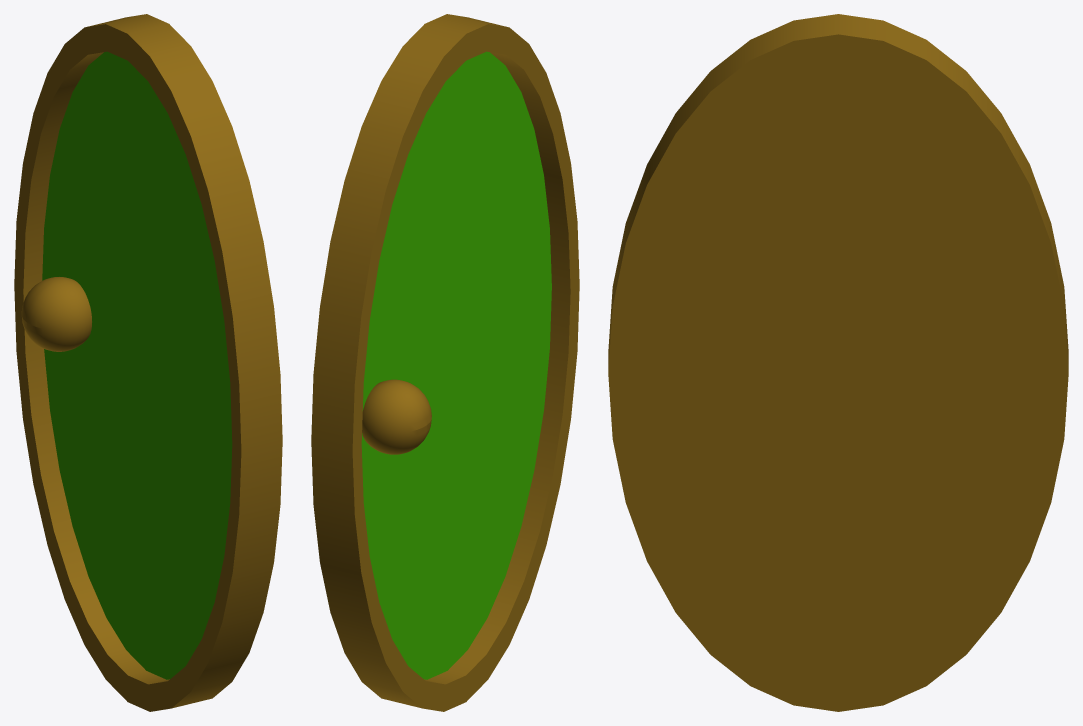
File: Dooor.fbx
The picture shows the model from 3 angles, left to right: view 1: azimuth 30°, elevation 25°; view 2: azimuth 150°, elevation 25°; view 3: azimuth 270°, elevation 25°; orthographic projection.
Parts seen in each view (by area): view 1: Cylinder.028; view 2: Cylinder.028; view 3: Cylinder.028.
Boxes of the visible parts, left/top/right/bottom form: Cylinder.028: left=14, top=14, right=282, bottom=711; Cylinder.028: left=311, top=14, right=579, bottom=711; Cylinder.028: left=608, top=14, right=1068, bottom=711.
Bounding box in the file's own units: 27.25 × 240 × 148.
